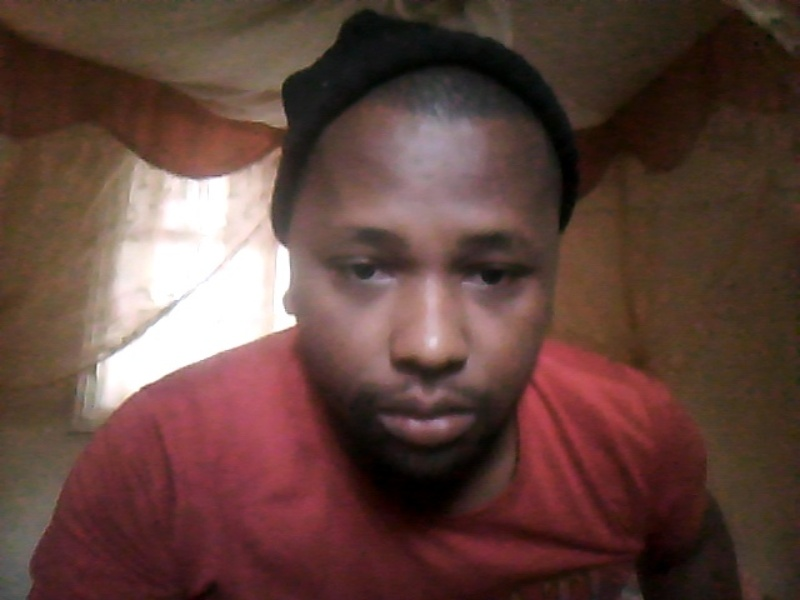TsisyArotava: (262, 26, 604, 500)
